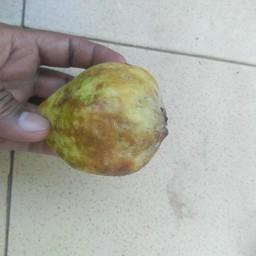Bad_guava: (32, 61, 169, 177)
